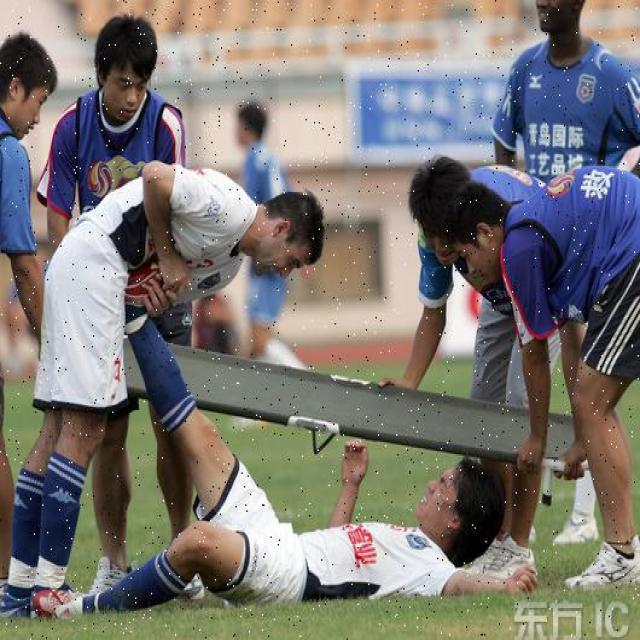fall: (121, 402, 500, 605)
